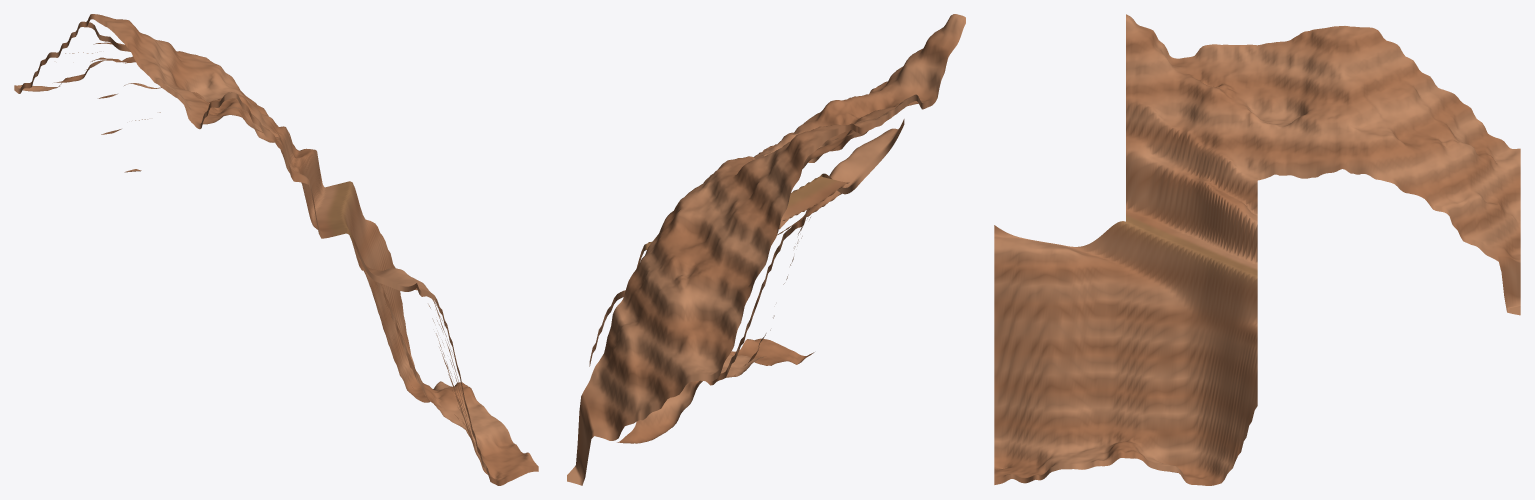
The model's file is terrain-012.glb.
3 views of the same model, side by side, from view 1: azimuth 30°, elevation 25°; view 2: azimuth 150°, elevation 25°; view 3: azimuth 270°, elevation 25° (orthographic). The views are drawn at different scales.
Parts seen in each view (by area): view 1: terrain-012; view 2: terrain-012; view 3: terrain-012.
Part boxes in pixels (box(x1,y1,x2,y2)): terrain-012: box(14, 14, 538, 485); terrain-012: box(567, 14, 965, 485); terrain-012: box(994, 14, 1520, 485).
Bounding box in the file's own units: 192 × 294 × 384.
